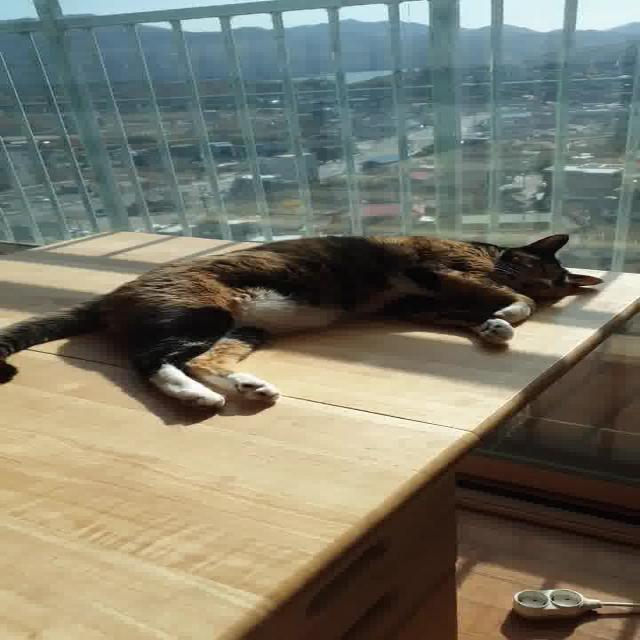cat: (3, 186, 631, 433)
